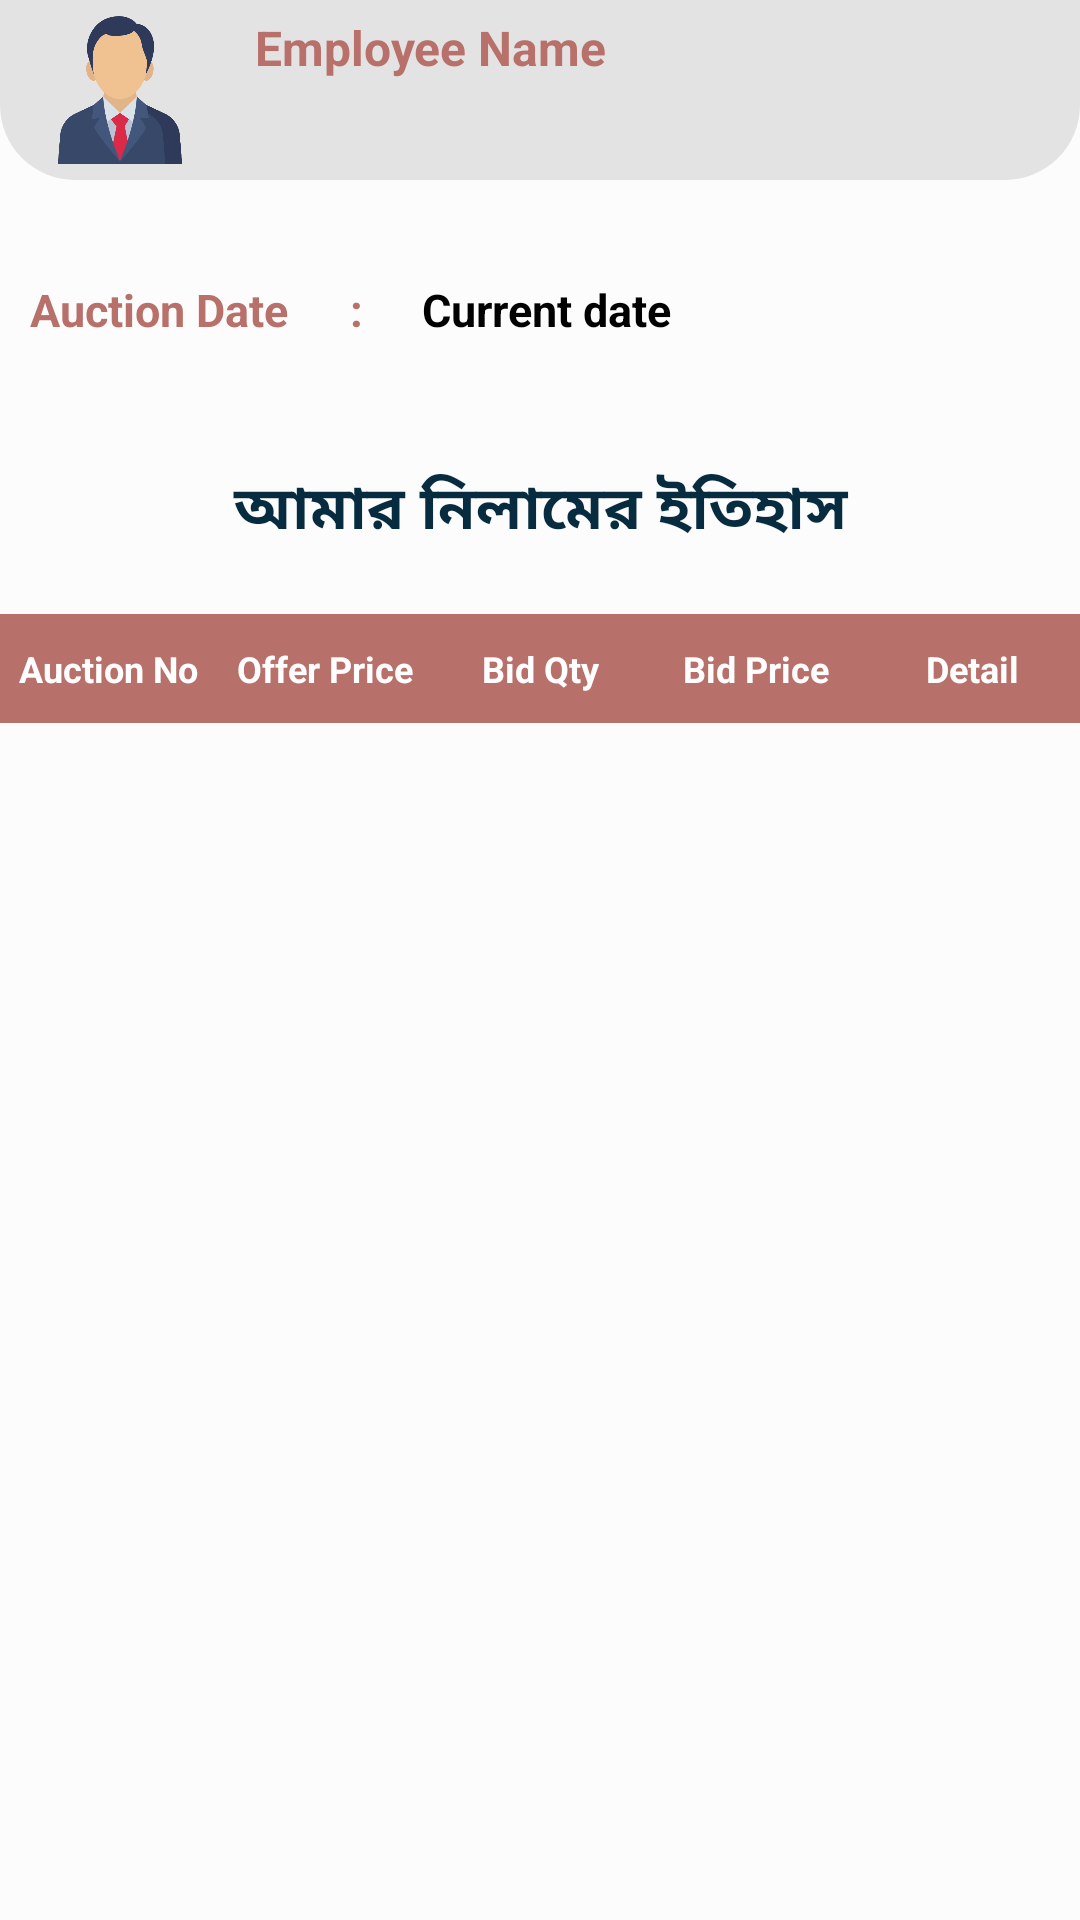

Named icons in this screenshot (1080w x 1920h) and their bounding boxes, (x1, y1, x2, y2):
manager: (58, 16, 182, 164)
